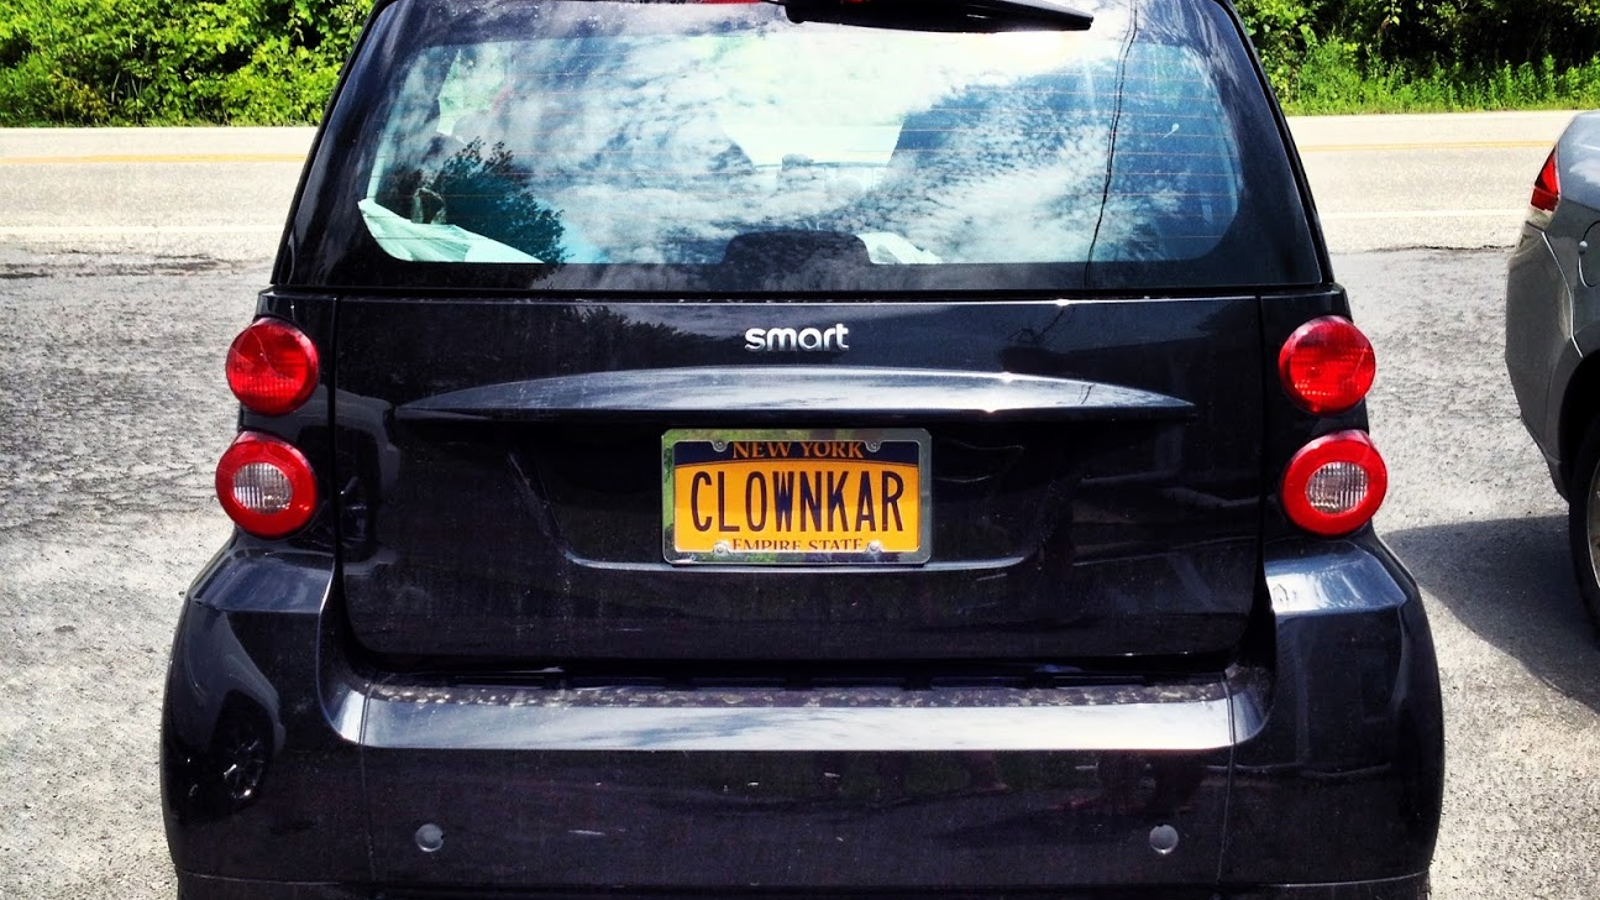number_plate: (608, 408, 985, 575)
